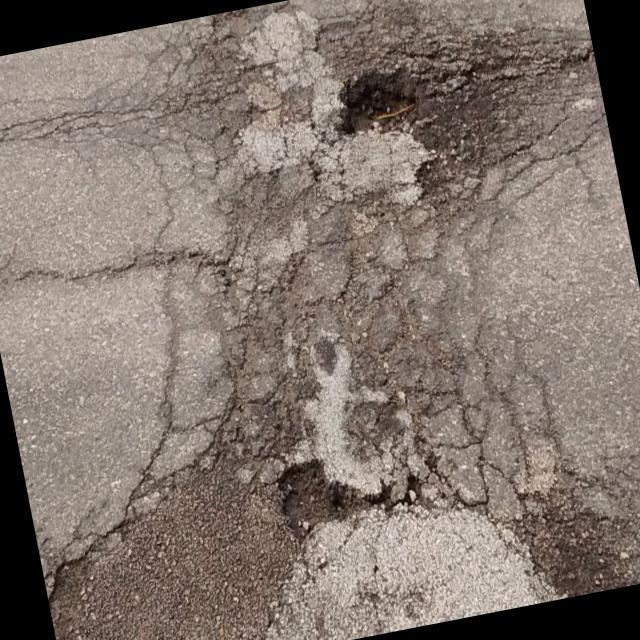Pothole: (29, 387, 439, 640), (318, 45, 492, 228), (474, 442, 640, 611), (252, 402, 371, 526)
